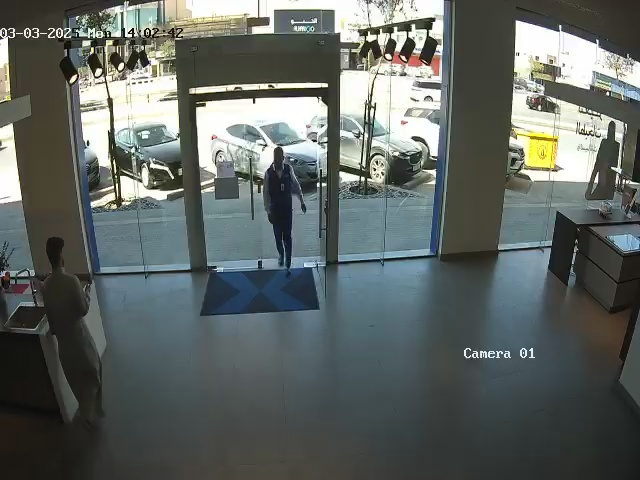employee: (262, 146, 307, 275)
male: (36, 236, 106, 428)
